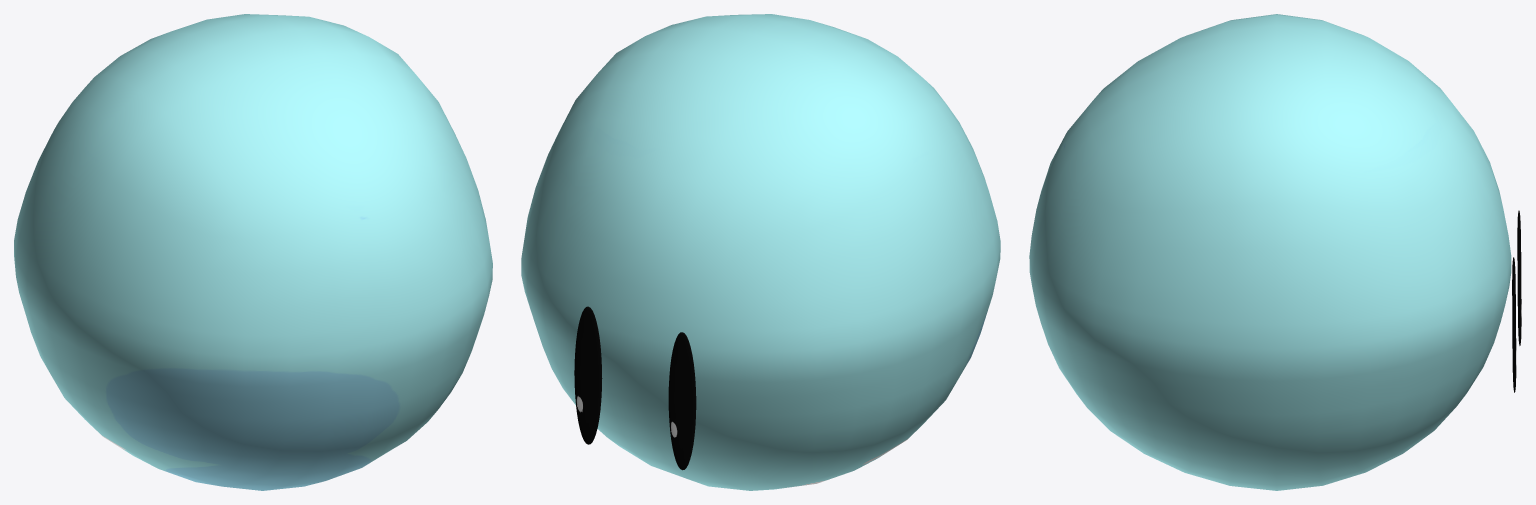
Rendered from korokoro1.fbx.
The picture shows the model from 3 angles, left to right: view 1: azimuth 30°, elevation 25°; view 2: azimuth 150°, elevation 25°; view 3: azimuth 270°, elevation 25°; orthographic projection.
Parts seen in each view (by area): view 1: polySurface2; view 2: polySurface2; view 3: polySurface2.
Boxes of the visible parts, x1,y1,x2,y2 form: polySurface2: (14, 14, 492, 490); polySurface2: (521, 14, 1000, 490); polySurface2: (1029, 14, 1521, 490).
Size of the model in its own units: 2.95 by 3.02 by 3.12.
Materials: 2 (2 with a texture image).
